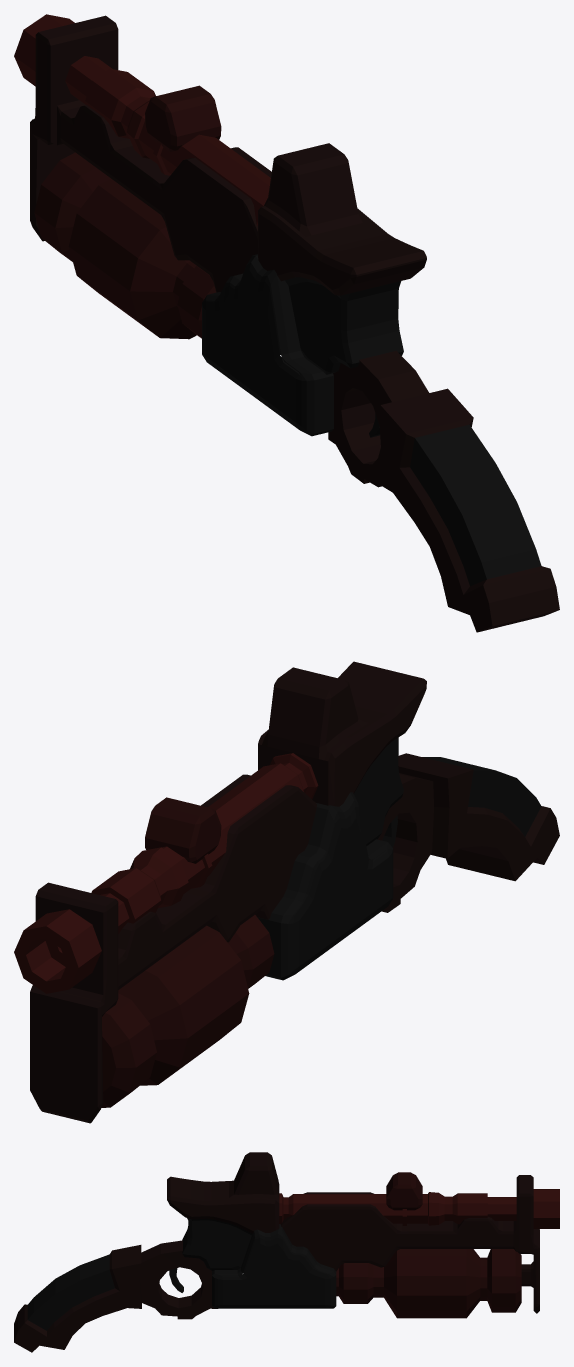
The model's file is smg.glb.
3 views of the same model, one above another, from view 1: azimuth 30°, elevation 25°; view 2: azimuth 150°, elevation 25°; view 3: azimuth 270°, elevation 25° (orthographic). The views are drawn at different scales.
Visible parts, largest first — view 1: LongPistol_small; view 2: LongPistol_small; view 3: LongPistol_small.
Part boxes in pixels (x1,y1,x2,y2): LongPistol_small: (14, 14, 559, 632); LongPistol_small: (14, 661, 559, 1123); LongPistol_small: (14, 1152, 559, 1352).
Size of the model in its own units: 63.85 by 166 by 445.
